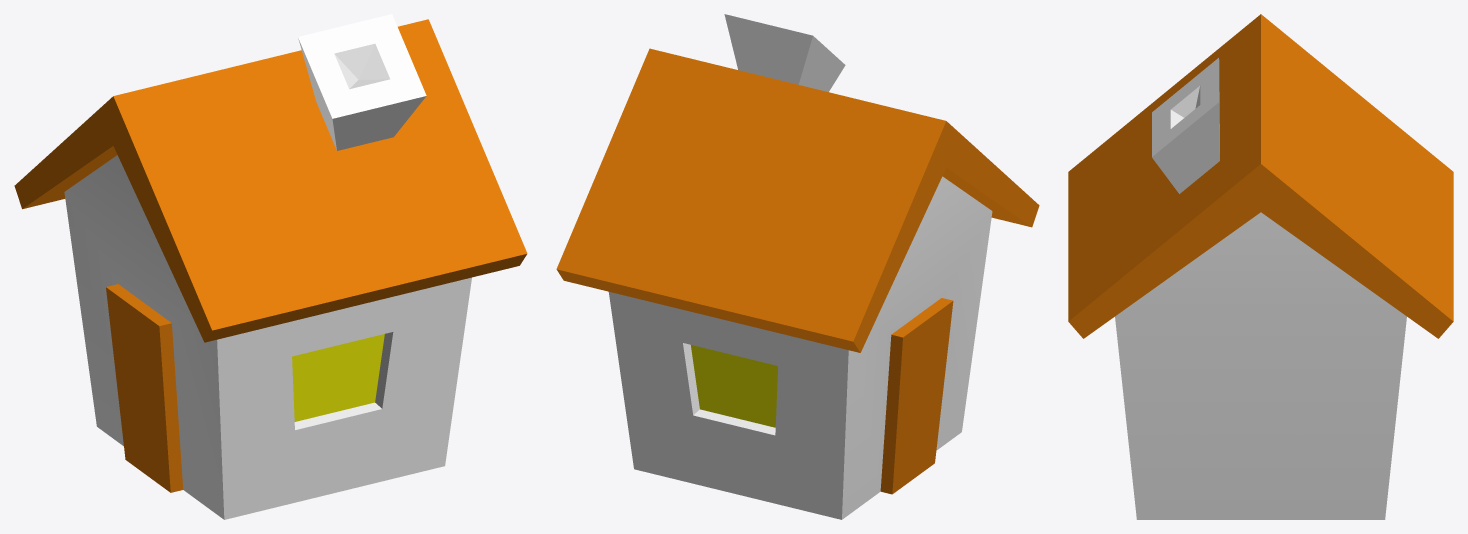
The model's file is farm.fbx.
3 views of the same model, side by side, from view 1: azimuth 30°, elevation 25°; view 2: azimuth 150°, elevation 25°; view 3: azimuth 270°, elevation 25° (orthographic). The views are drawn at different scales.
Parts seen in each view (by area): view 1: farm; view 2: farm; view 3: farm.
Part boxes in pixels (box(x1,y1,x2,y2)): farm: box(14, 14, 527, 519); farm: box(556, 14, 1039, 519); farm: box(1068, 14, 1453, 519).
Bounding box in the file's own units: 2.68 × 3.45 × 2.92.
